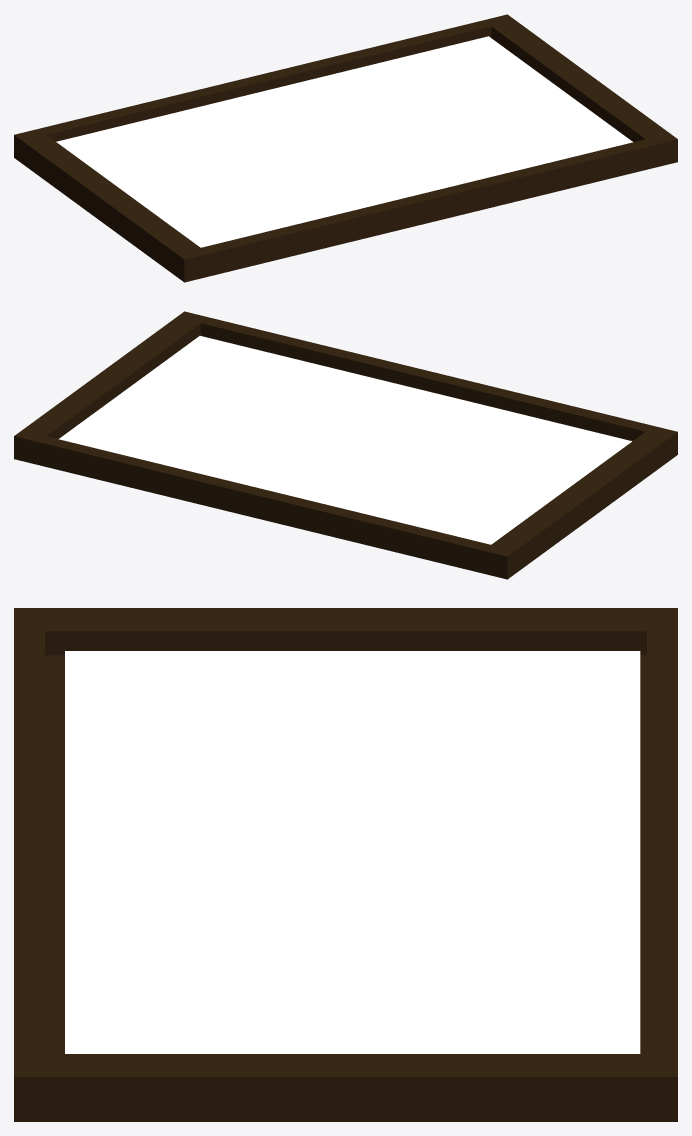
The model's file is Ventana Rectangular.fbx.
The picture shows the model from 3 angles, top to bottom: view 1: azimuth 30°, elevation 25°; view 2: azimuth 150°, elevation 25°; view 3: azimuth 270°, elevation 25°; orthographic projection. The views are drawn at different scales.
Visible parts, largest first — view 1: Cubo.001, Cubo; view 2: Cubo.001, Cubo; view 3: Cubo.001, Cubo.
Part boxes in pixels (<box>): Cubo.001: <box>56,36,632,247</box>; Cubo: <box>14,14,677,282</box>; Cubo.001: <box>59,336,631,544</box>; Cubo: <box>14,311,677,579</box>; Cubo.001: <box>65,651,640,1053</box>; Cubo: <box>14,608,677,1121</box>.
Size of the model in its own units: 513 by 22.8 by 307.
